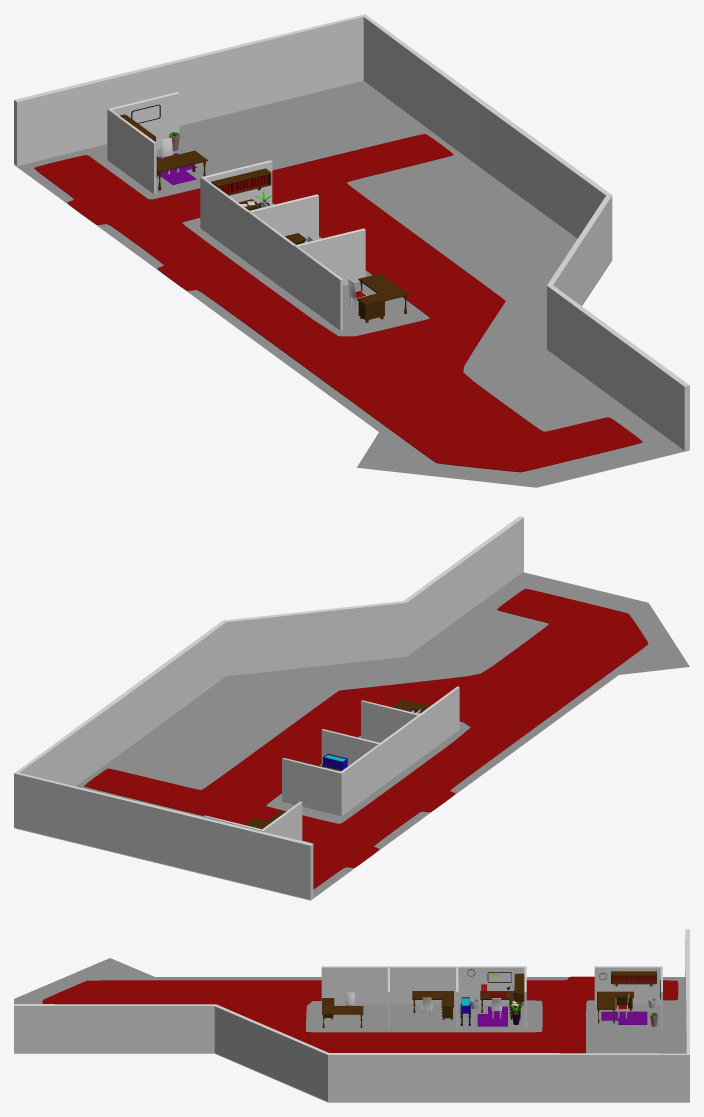
Rendered from Main_combined.fbx.
3 views of the same model, one above another, from view 1: azimuth 30°, elevation 25°; view 2: azimuth 150°, elevation 25°; view 3: azimuth 270°, elevation 25° (orthographic). The views are drawn at different scales.
Visible parts, largest first — view 1: Floor.001, Main_Heaven_Rug, Main_Walls, Cubicle_Base, Desk.002, Desk.003; view 2: Main_Walls, Main_Heaven_Rug, Floor.001, Cubicle_Base; view 3: Main_Walls, Main_Heaven_Rug, Floor.001, Cubicle_Base, Desk.003, Desk.001, Carpet.001, Shelf.002, Desk.002, Carpet, Desk, Shelf.
Part boxes in pixels (<box>): Floor.001: <box>14,81,689,487</box>; Main_Heaven_Rug: <box>34,134,642,472</box>; Main_Walls: <box>14,14,689,450</box>; Cubicle_Base: <box>107,92,365,330</box>; Desk.002: <box>356,273,408,322</box>; Desk.003: <box>156,150,207,190</box>; Main_Walls: <box>14,516,523,899</box>; Main_Heaven_Rug: <box>84,588,648,889</box>; Floor.001: <box>14,572,689,900</box>; Cubicle_Base: <box>203,686,459,840</box>; Main_Walls: <box>14,929,689,1101</box>; Main_Heaven_Rug: <box>42,976,678,1053</box>; Floor.001: <box>14,958,689,1102</box>; Cubicle_Base: <box>321,966,662,1028</box>; Desk.003: <box>597,991,633,1023</box>; Desk.001: <box>412,991,453,1019</box>; Carpet.001: <box>601,1011,647,1024</box>; Shelf.002: <box>611,971,656,986</box>; Desk.002: <box>322,998,363,1027</box>; Carpet: <box>477,1006,507,1026</box>; Desk: <box>480,991,521,1019</box>; Shelf: <box>514,973,524,1005</box>.
Bounding box in the file's own units: 1486 × 228 × 2936.
